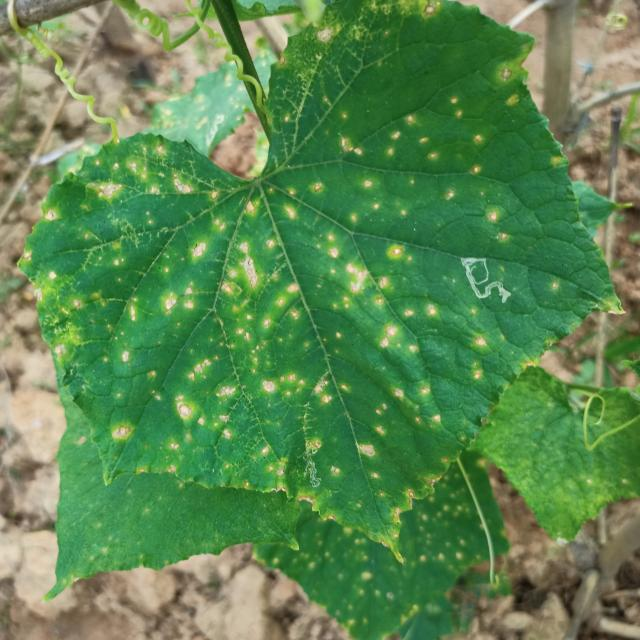disease_cucumber: (60, 27, 551, 517)
